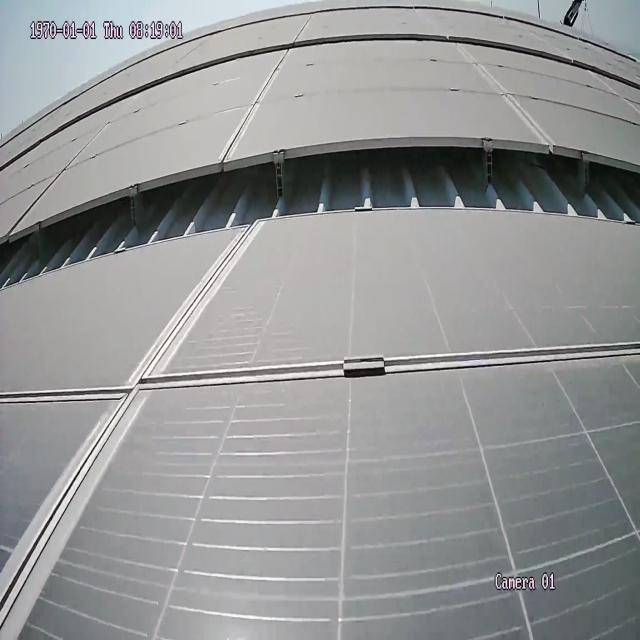interior panel: (0, 247, 635, 636), (14, 129, 95, 227), (454, 54, 551, 128), (213, 61, 286, 152)
outher panel: (0, 133, 639, 299)
